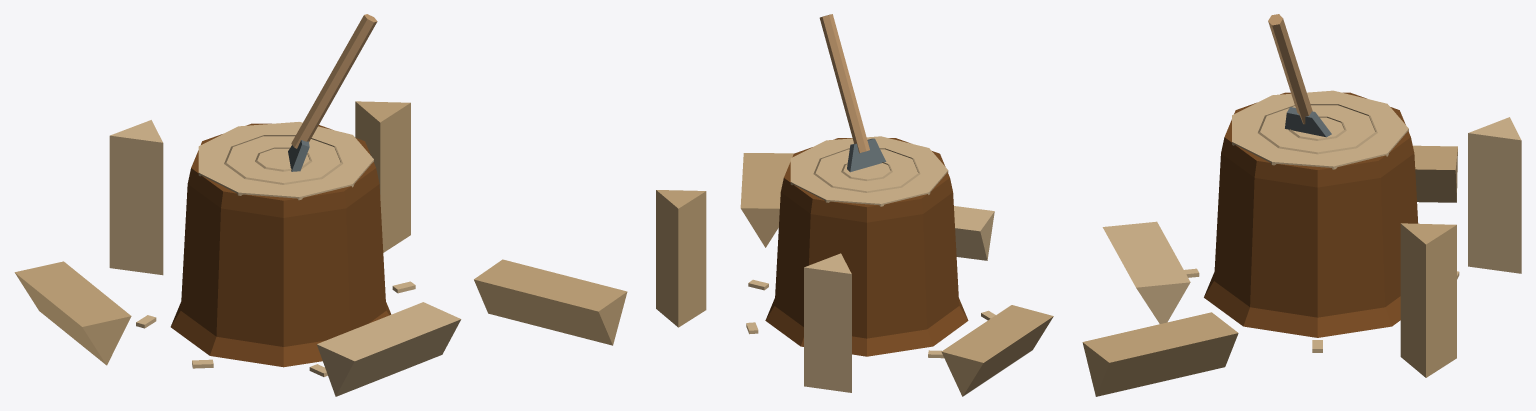
File: hackklotz.glb
3 renders of one model, left to right at view 1: azimuth 30°, elevation 25°; view 2: azimuth 150°, elevation 25°; view 3: azimuth 270°, elevation 25°, orthographic. The views are drawn at different scales.
Parts seen in each view (by area): view 1: hackklotz-m; view 2: hackklotz-m; view 3: hackklotz-m.
Part boxes in pixels (left/top/right/bottom): hackklotz-m: left=14, top=14, right=627, bottom=396; hackklotz-m: left=656, top=14, right=1053, bottom=396; hackklotz-m: left=1082, top=14, right=1521, bottom=396.
Size of the model in its own units: 1.48 by 0.9602 by 1.25.
